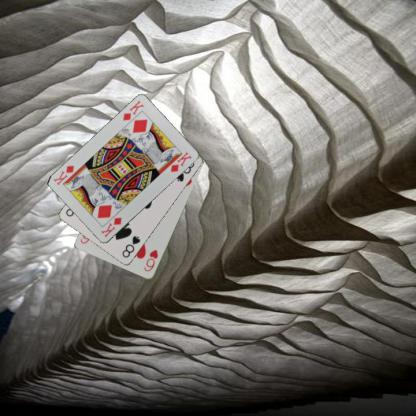6h: (142, 247, 160, 273)
8s: (119, 233, 142, 260)
Kd: (120, 98, 146, 122), (98, 215, 123, 239)
